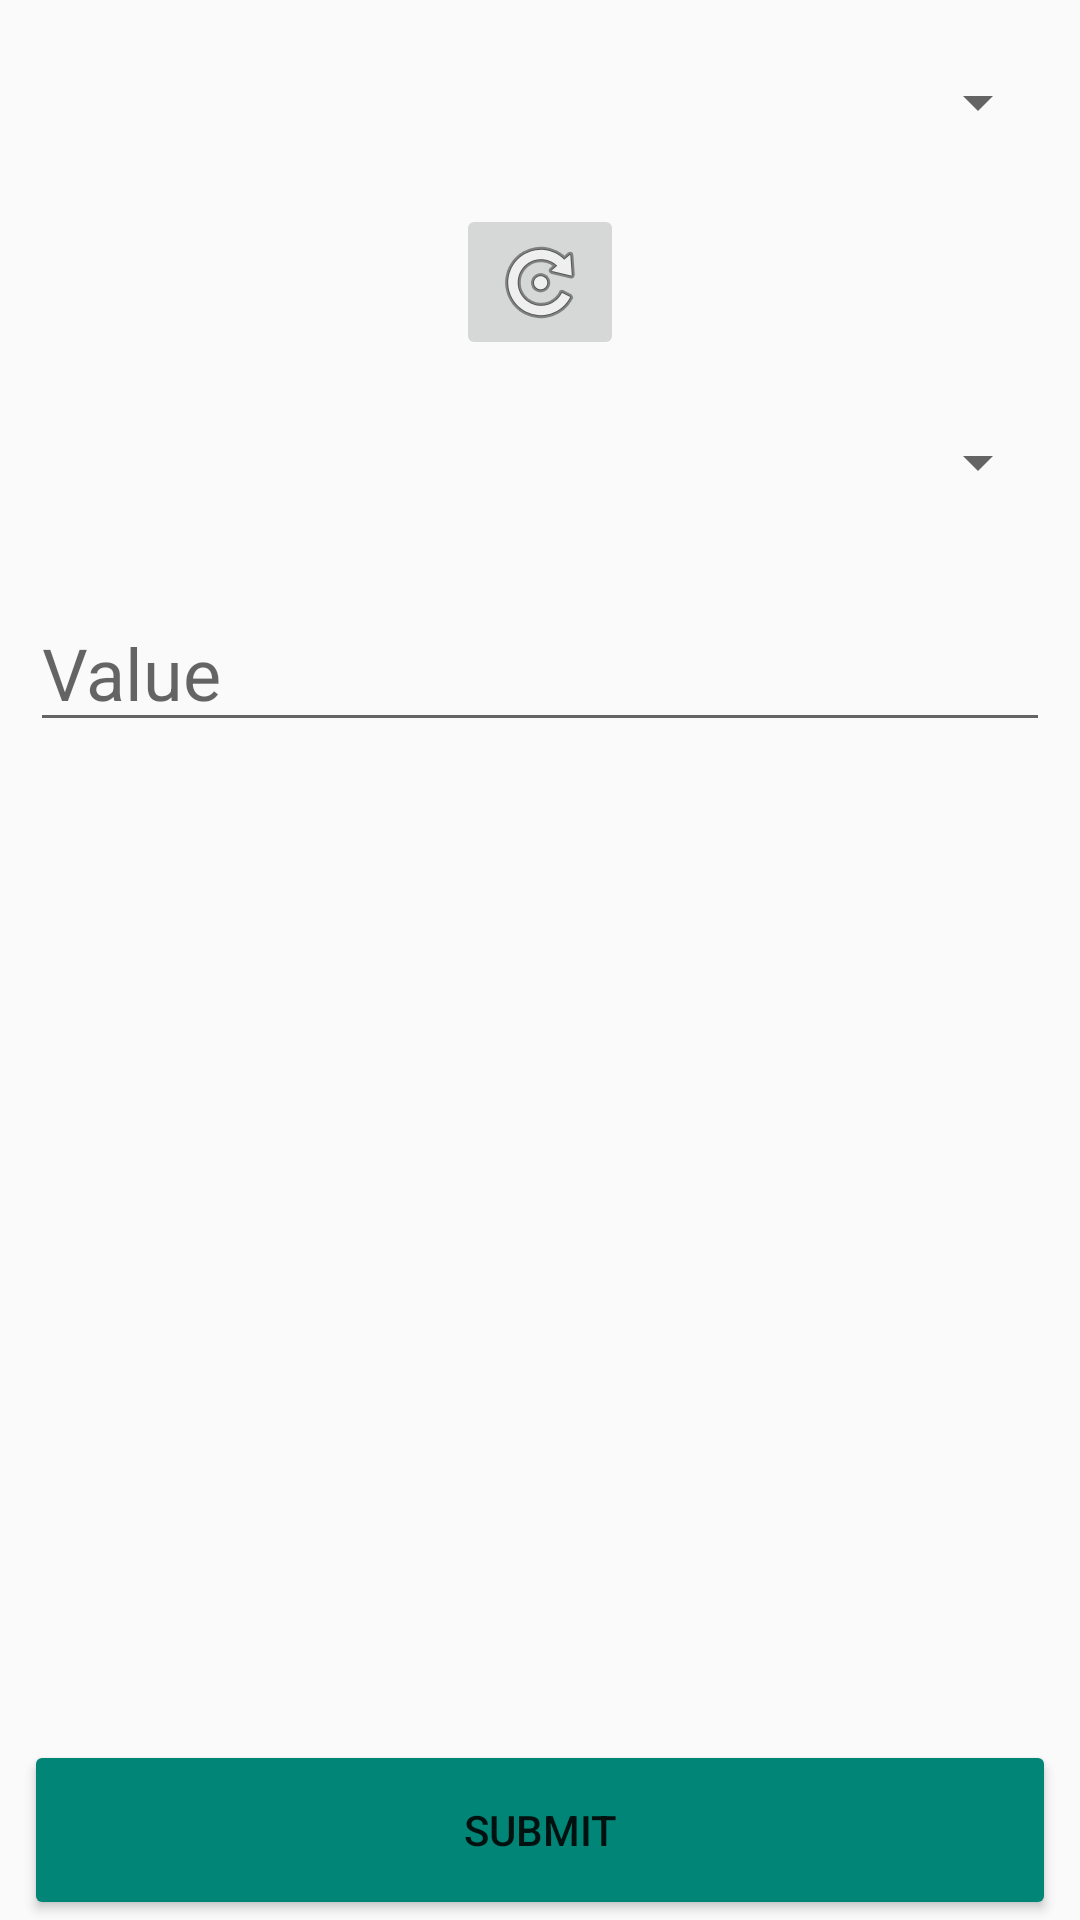

Icon click points for this 1080px×1920px phone screenshot, format (x=x, y=y):
Swap: (x=540, y=282)
